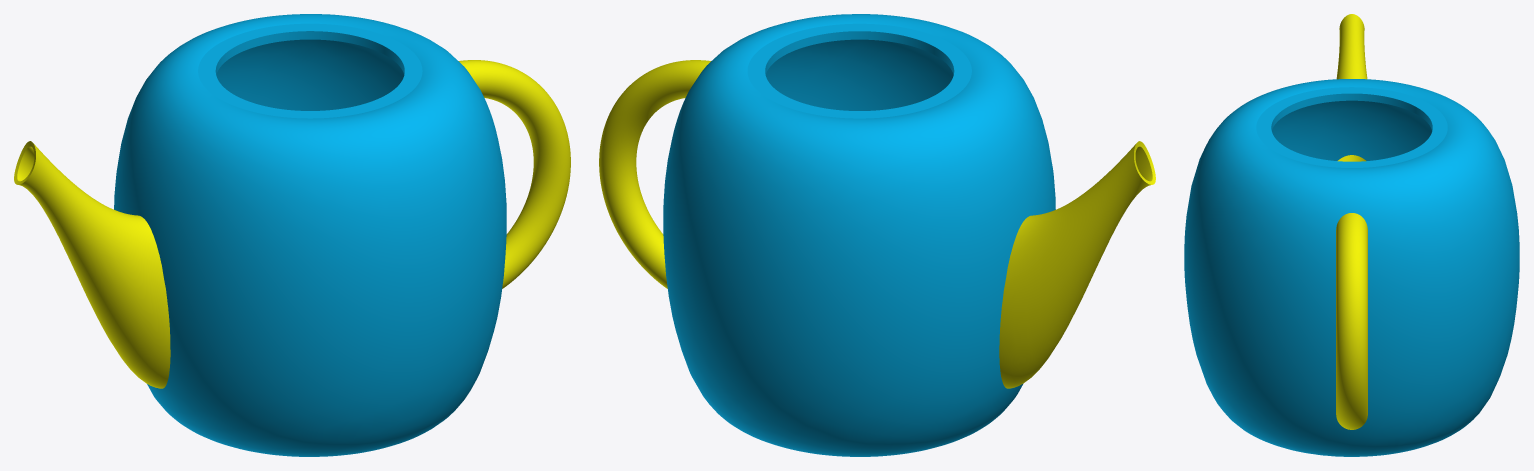
Rendered from royal.glb.
3 renders of one model, left to right at view 1: azimuth 30°, elevation 25°; view 2: azimuth 150°, elevation 25°; view 3: azimuth 270°, elevation 25°, orthographic. The views are drawn at different scales.
Visible parts, largest first — view 1: body, spout, hand; view 2: body, spout, hand; view 3: body, hand, spout.
Boxes of the visible parts, x1=… form: body: x1=114, y1=14, x2=506, y2=456; spout: x1=14, y1=141, x2=170, y2=388; hand: x1=459, y1=60, x2=570, y2=288; body: x1=663, y1=14, x2=1055, y2=456; spout: x1=999, y1=141, x2=1155, y2=388; hand: x1=599, y1=60, x2=710, y2=288; body: x1=1184, y1=79, x2=1519, y2=456; hand: x1=1336, y1=213, x2=1367, y2=429; spout: x1=1336, y1=14, x2=1367, y2=161.
Bounding box in the file's own units: 137 × 78.26 × 84.39.
